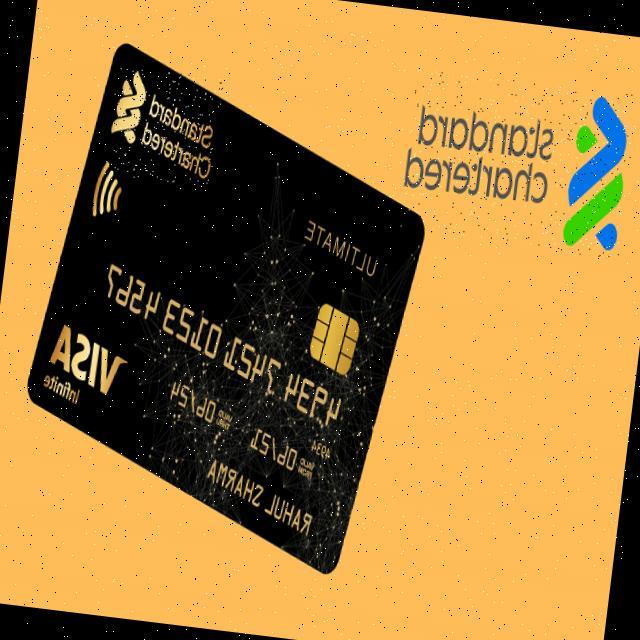Standard Chartered: (397, 68, 638, 259), (104, 66, 224, 188)
